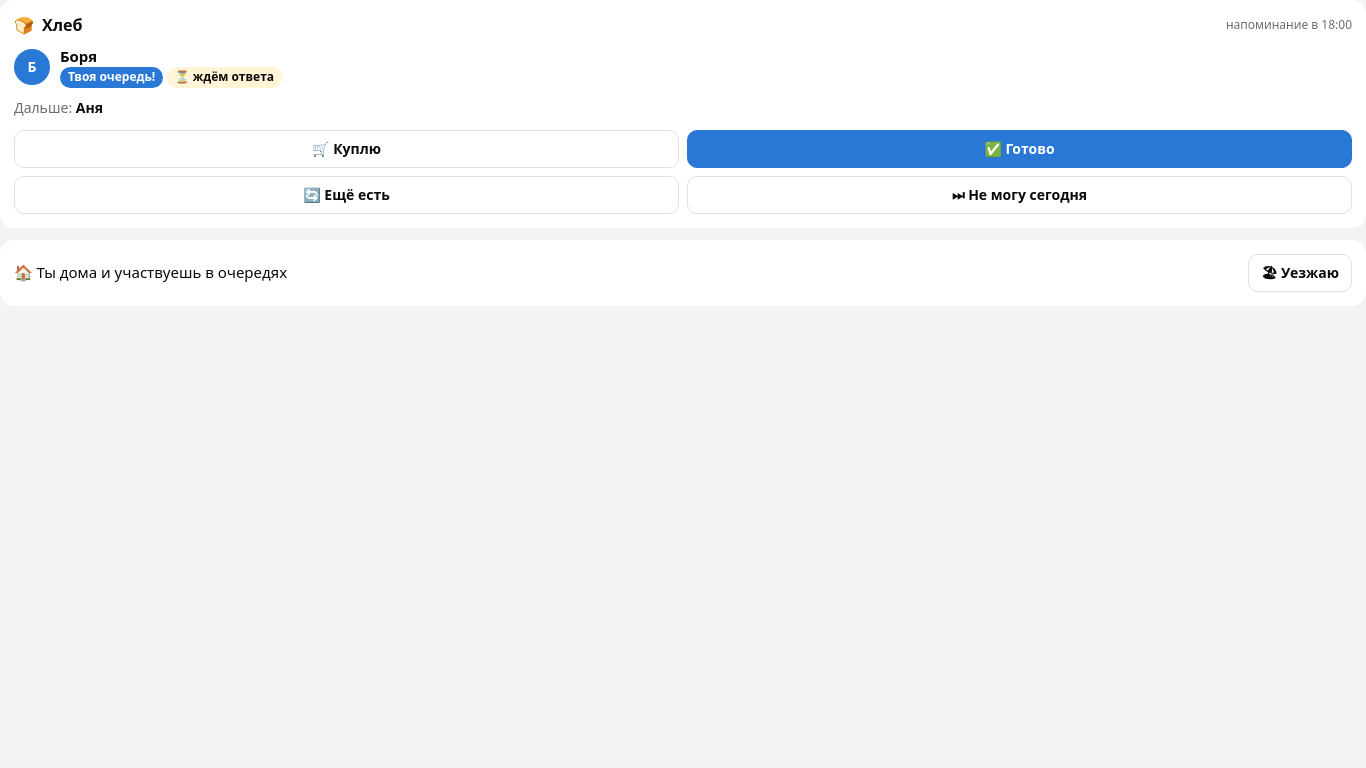
Test: queue actions › goes away for a week
Click the button "🏖 Уезжаю" at point(1300, 273), box [1248,254,1352,292]
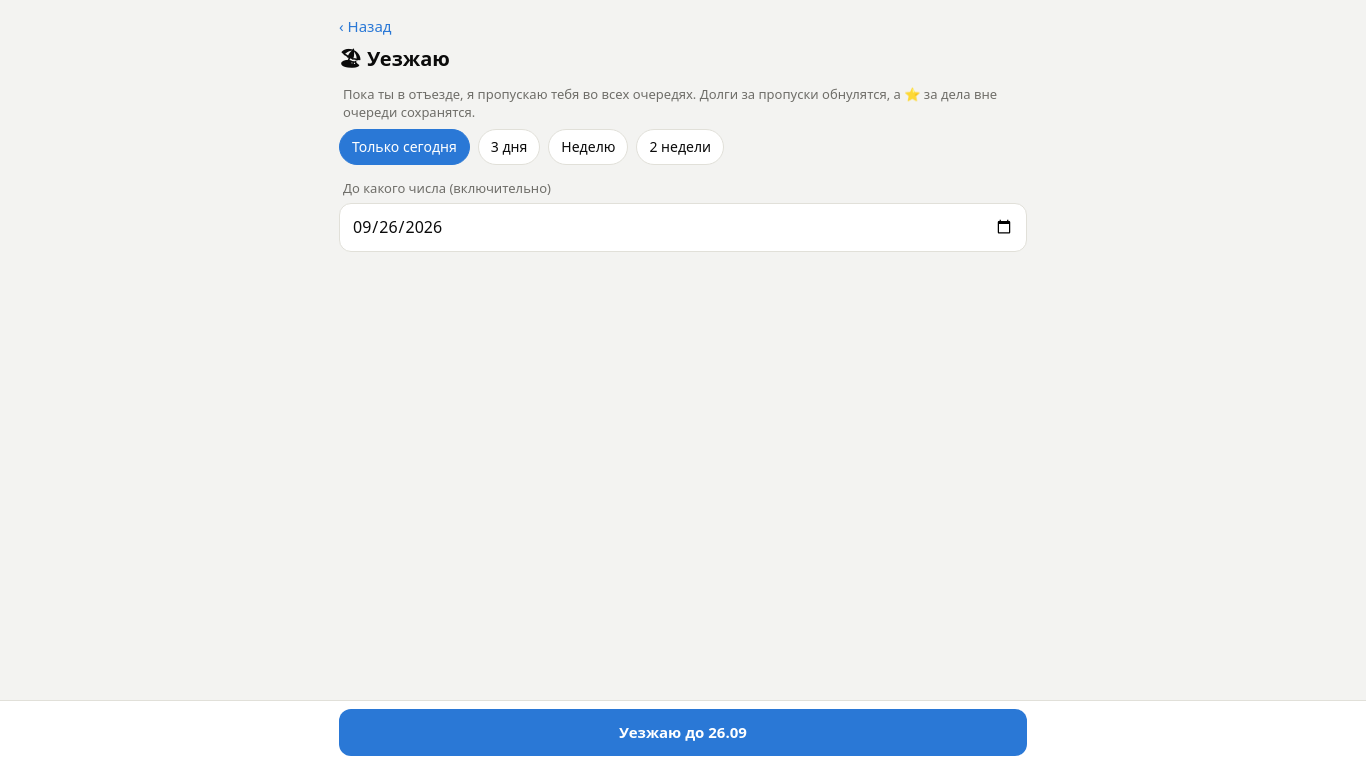
Click the radio button labelled "Неделю" at point(588, 147), box [548,129,628,165]
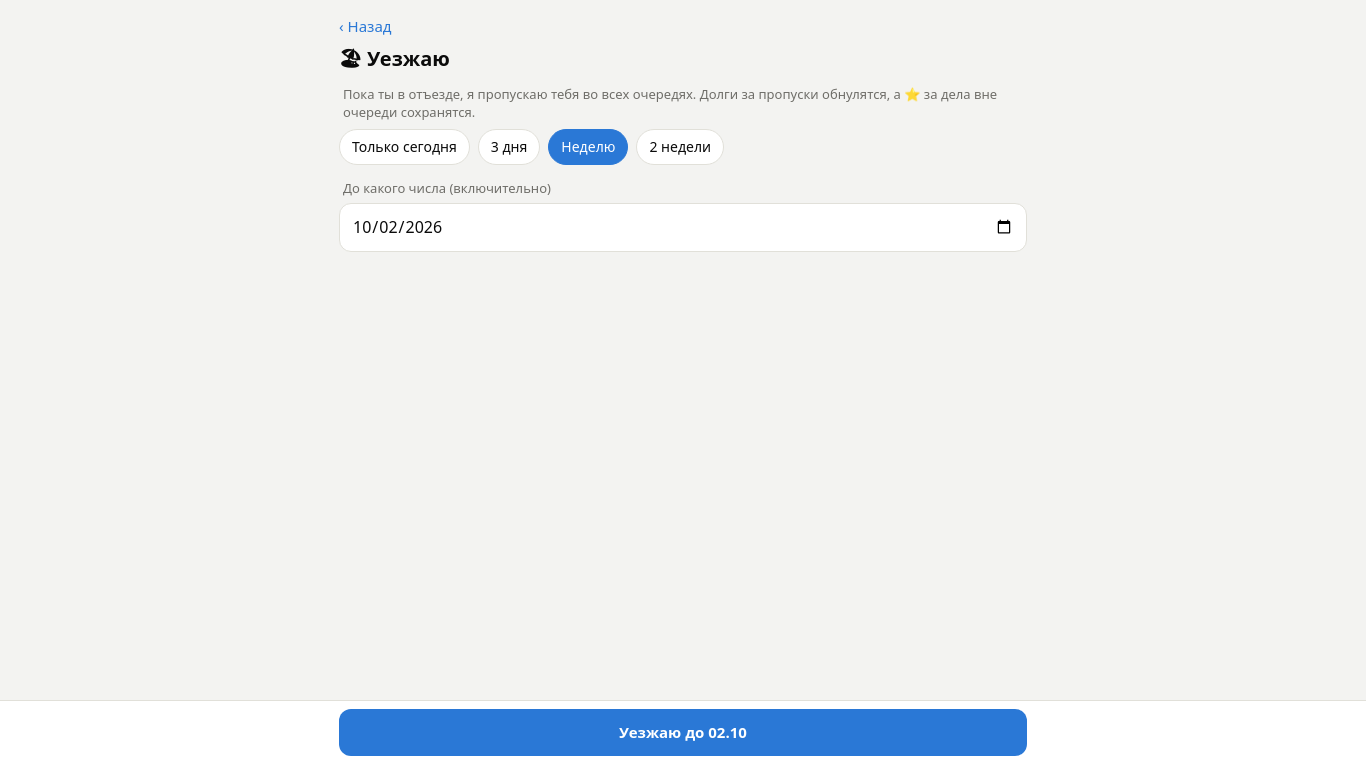
Click the button "Уезжаю до 02.10" at point(683, 732), box [339,709,1027,756]
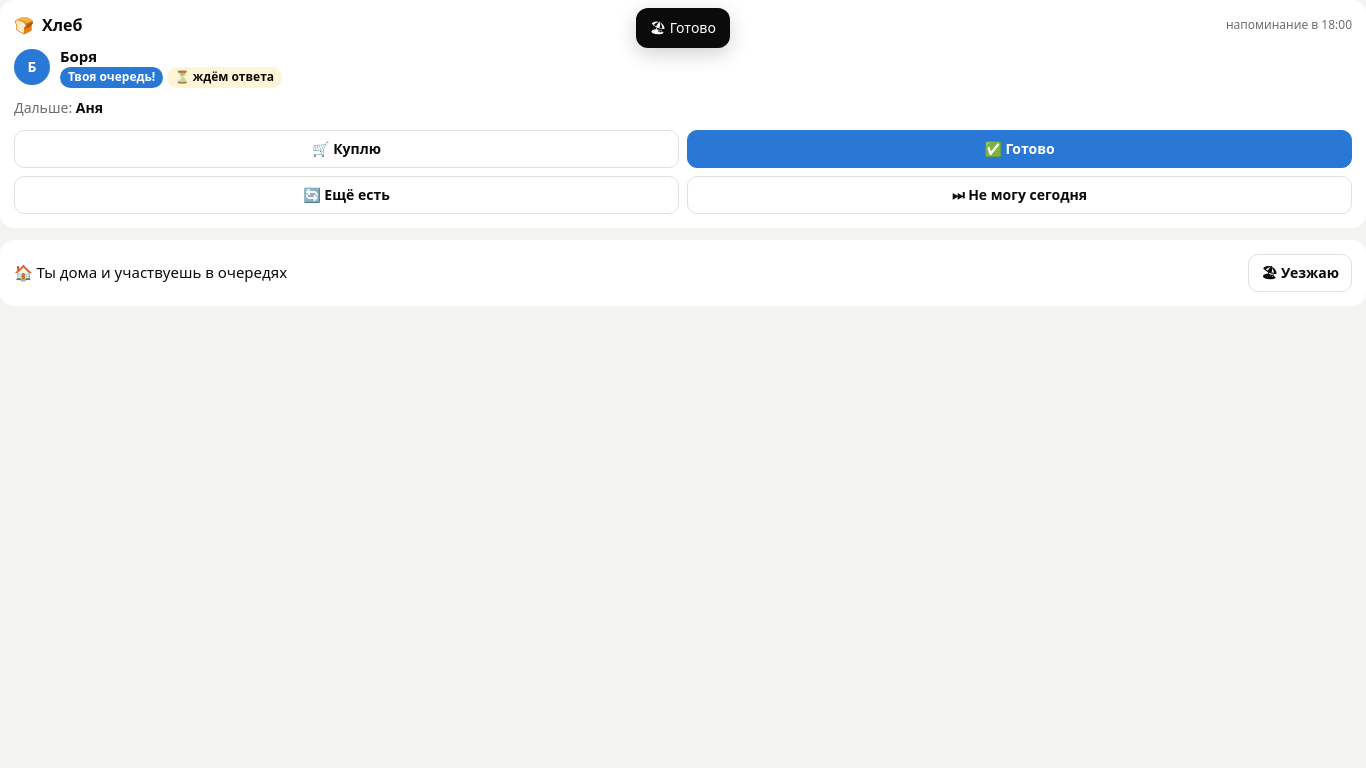
Check: the button "🏖 Готово" is shown, box [636,8,730,48]
